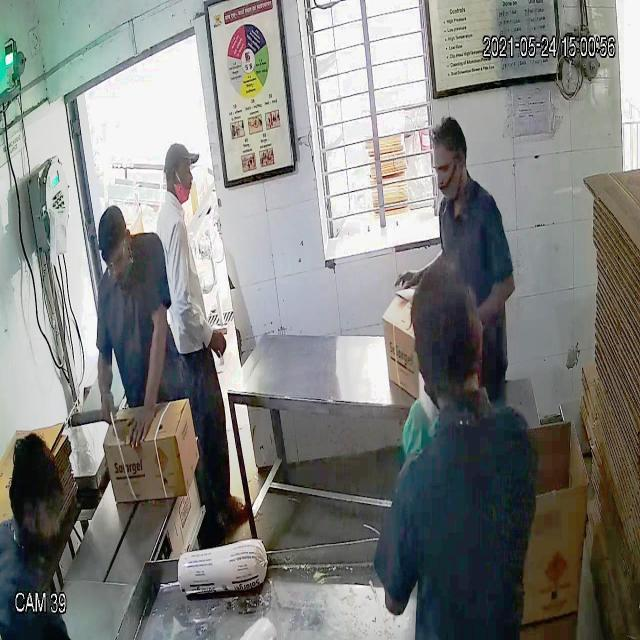glasses: (430, 156, 461, 186), (100, 246, 128, 276)
